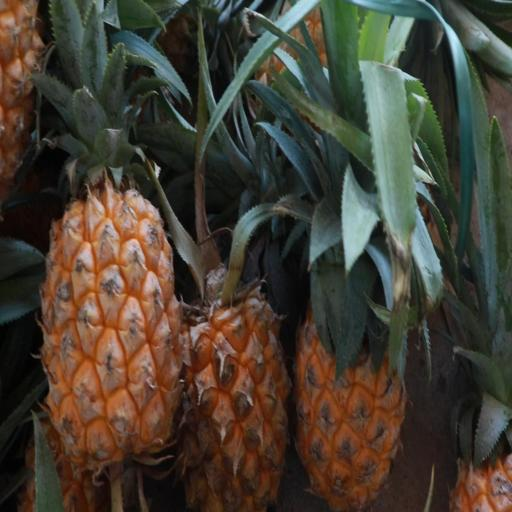Pineapple - v8 v1: (36, 114, 187, 475), (288, 187, 411, 511), (170, 247, 295, 512)
